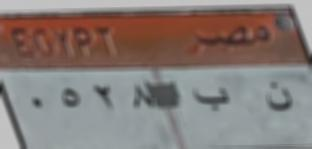0: (25, 88, 48, 115)
2: (90, 79, 116, 114)
5: (55, 83, 83, 114)
8: (127, 82, 155, 113)
baa: (188, 82, 231, 113)
noon: (263, 75, 293, 117)
